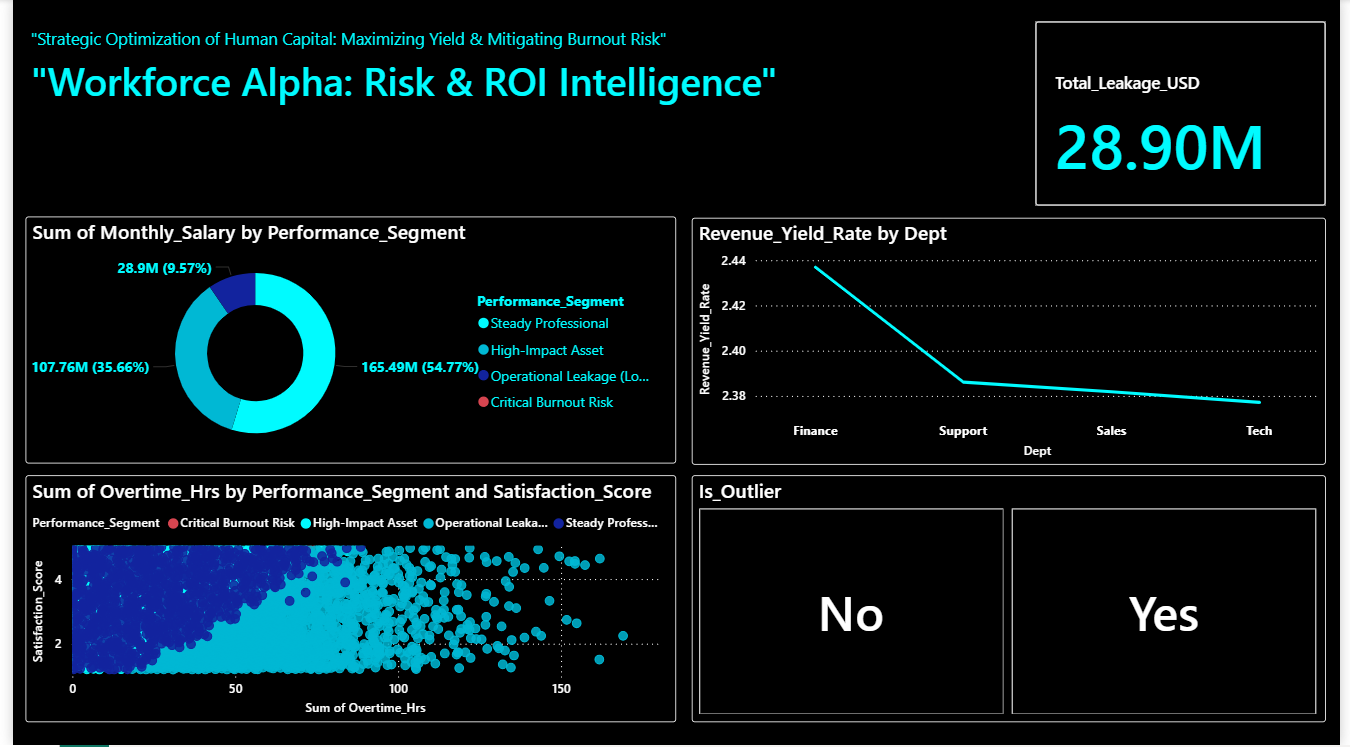

The dashboard page shown, as its layout file describes it:
{"tool":"powerbi","page":{"name":"Page 1","canvas":[1280,720],"ordinal":0},"visuals":[{"type":"cardVisual","fields":{"Data":["Enterprise_Final_Intelligence_40k.Total_Leakage_USD"]},"box":[986.5,21.6,280.3,177.9],"z":0},{"type":"donutChart","fields":{"Category":["Enterprise_Final_Intelligence_40k.Performance_Segment"],"Y":["Sum(Enterprise_Final_Intelligence_40k.Monthly_Salary)"]},"box":[12.1,210.2,628,238.5],"z":1},{"type":"lineChart","fields":{"Category":["Enterprise_Final_Intelligence_40k.Dept"],"Y":["Enterprise_Final_Intelligence_40k.Revenue_Yield_Rate"]},"box":[655,211.6,611.8,238.5],"z":2},{"type":"scatterChart","fields":{"X":["Sum(Enterprise_Final_Intelligence_40k.Overtime_Hrs)"],"Series":["Enterprise_Final_Intelligence_40k.Performance_Segment"],"Y":["Enterprise_Final_Intelligence_40k.Satisfaction_Score"]},"box":[12.1,459.6,628,238.5],"z":3},{"type":"advancedSlicerVisual","fields":{"Values":["Enterprise_Final_Intelligence_40k.Is_Outlier"]},"box":[655,459.6,611.8,238.5],"z":4},{"type":"textbox","box":[12.1,21.6,770.9,105.1],"z":5}]}

Visuals, with their boxes in screenshot pixels (x1, y1, x2, y2), scaled from the page's 1280x720 canvas onto the 1350x747 screenshot:
cardVisual - Enterprise_Final_Intelligence_40k.Total_Leakage_USD: {"left": 1040, "top": 22, "right": 1336, "bottom": 207}
donutChart - Enterprise_Final_Intelligence_40k.Performance_Segment x Sum(Enterprise_Final_Intelligence_40k.Monthly_Salary): {"left": 13, "top": 218, "right": 675, "bottom": 466}
lineChart - Enterprise_Final_Intelligence_40k.Dept x Enterprise_Final_Intelligence_40k.Revenue_Yield_Rate: {"left": 691, "top": 220, "right": 1336, "bottom": 467}
scatterChart - Sum(Enterprise_Final_Intelligence_40k.Overtime_Hrs) x Enterprise_Final_Intelligence_40k.Performance_Segment: {"left": 13, "top": 477, "right": 675, "bottom": 724}
advancedSlicerVisual - Enterprise_Final_Intelligence_40k.Is_Outlier: {"left": 691, "top": 477, "right": 1336, "bottom": 724}
textbox: {"left": 13, "top": 22, "right": 826, "bottom": 131}
